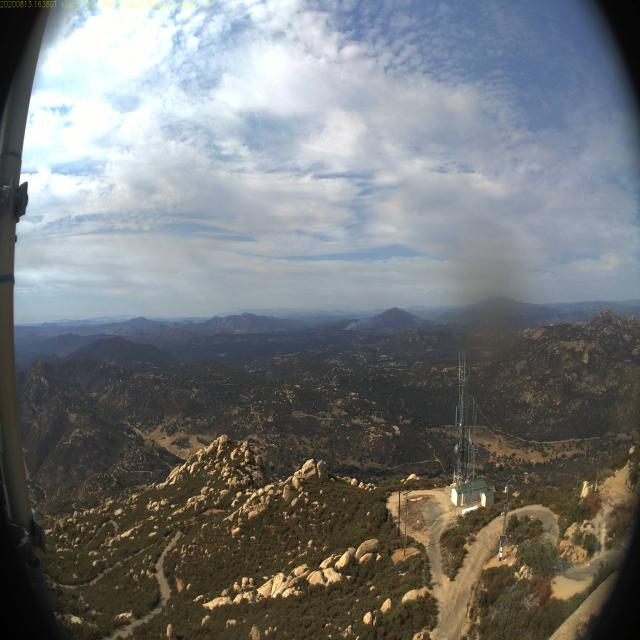smoke: (342, 308, 376, 337)
